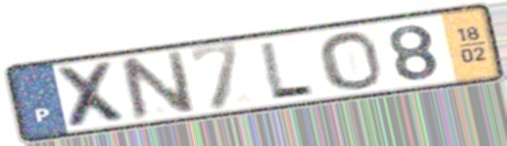7: (186, 40, 245, 114)
8: (387, 23, 443, 82)
L: (256, 39, 318, 100)
N: (114, 48, 199, 124)
O: (314, 29, 386, 92)
X: (52, 58, 136, 130)
